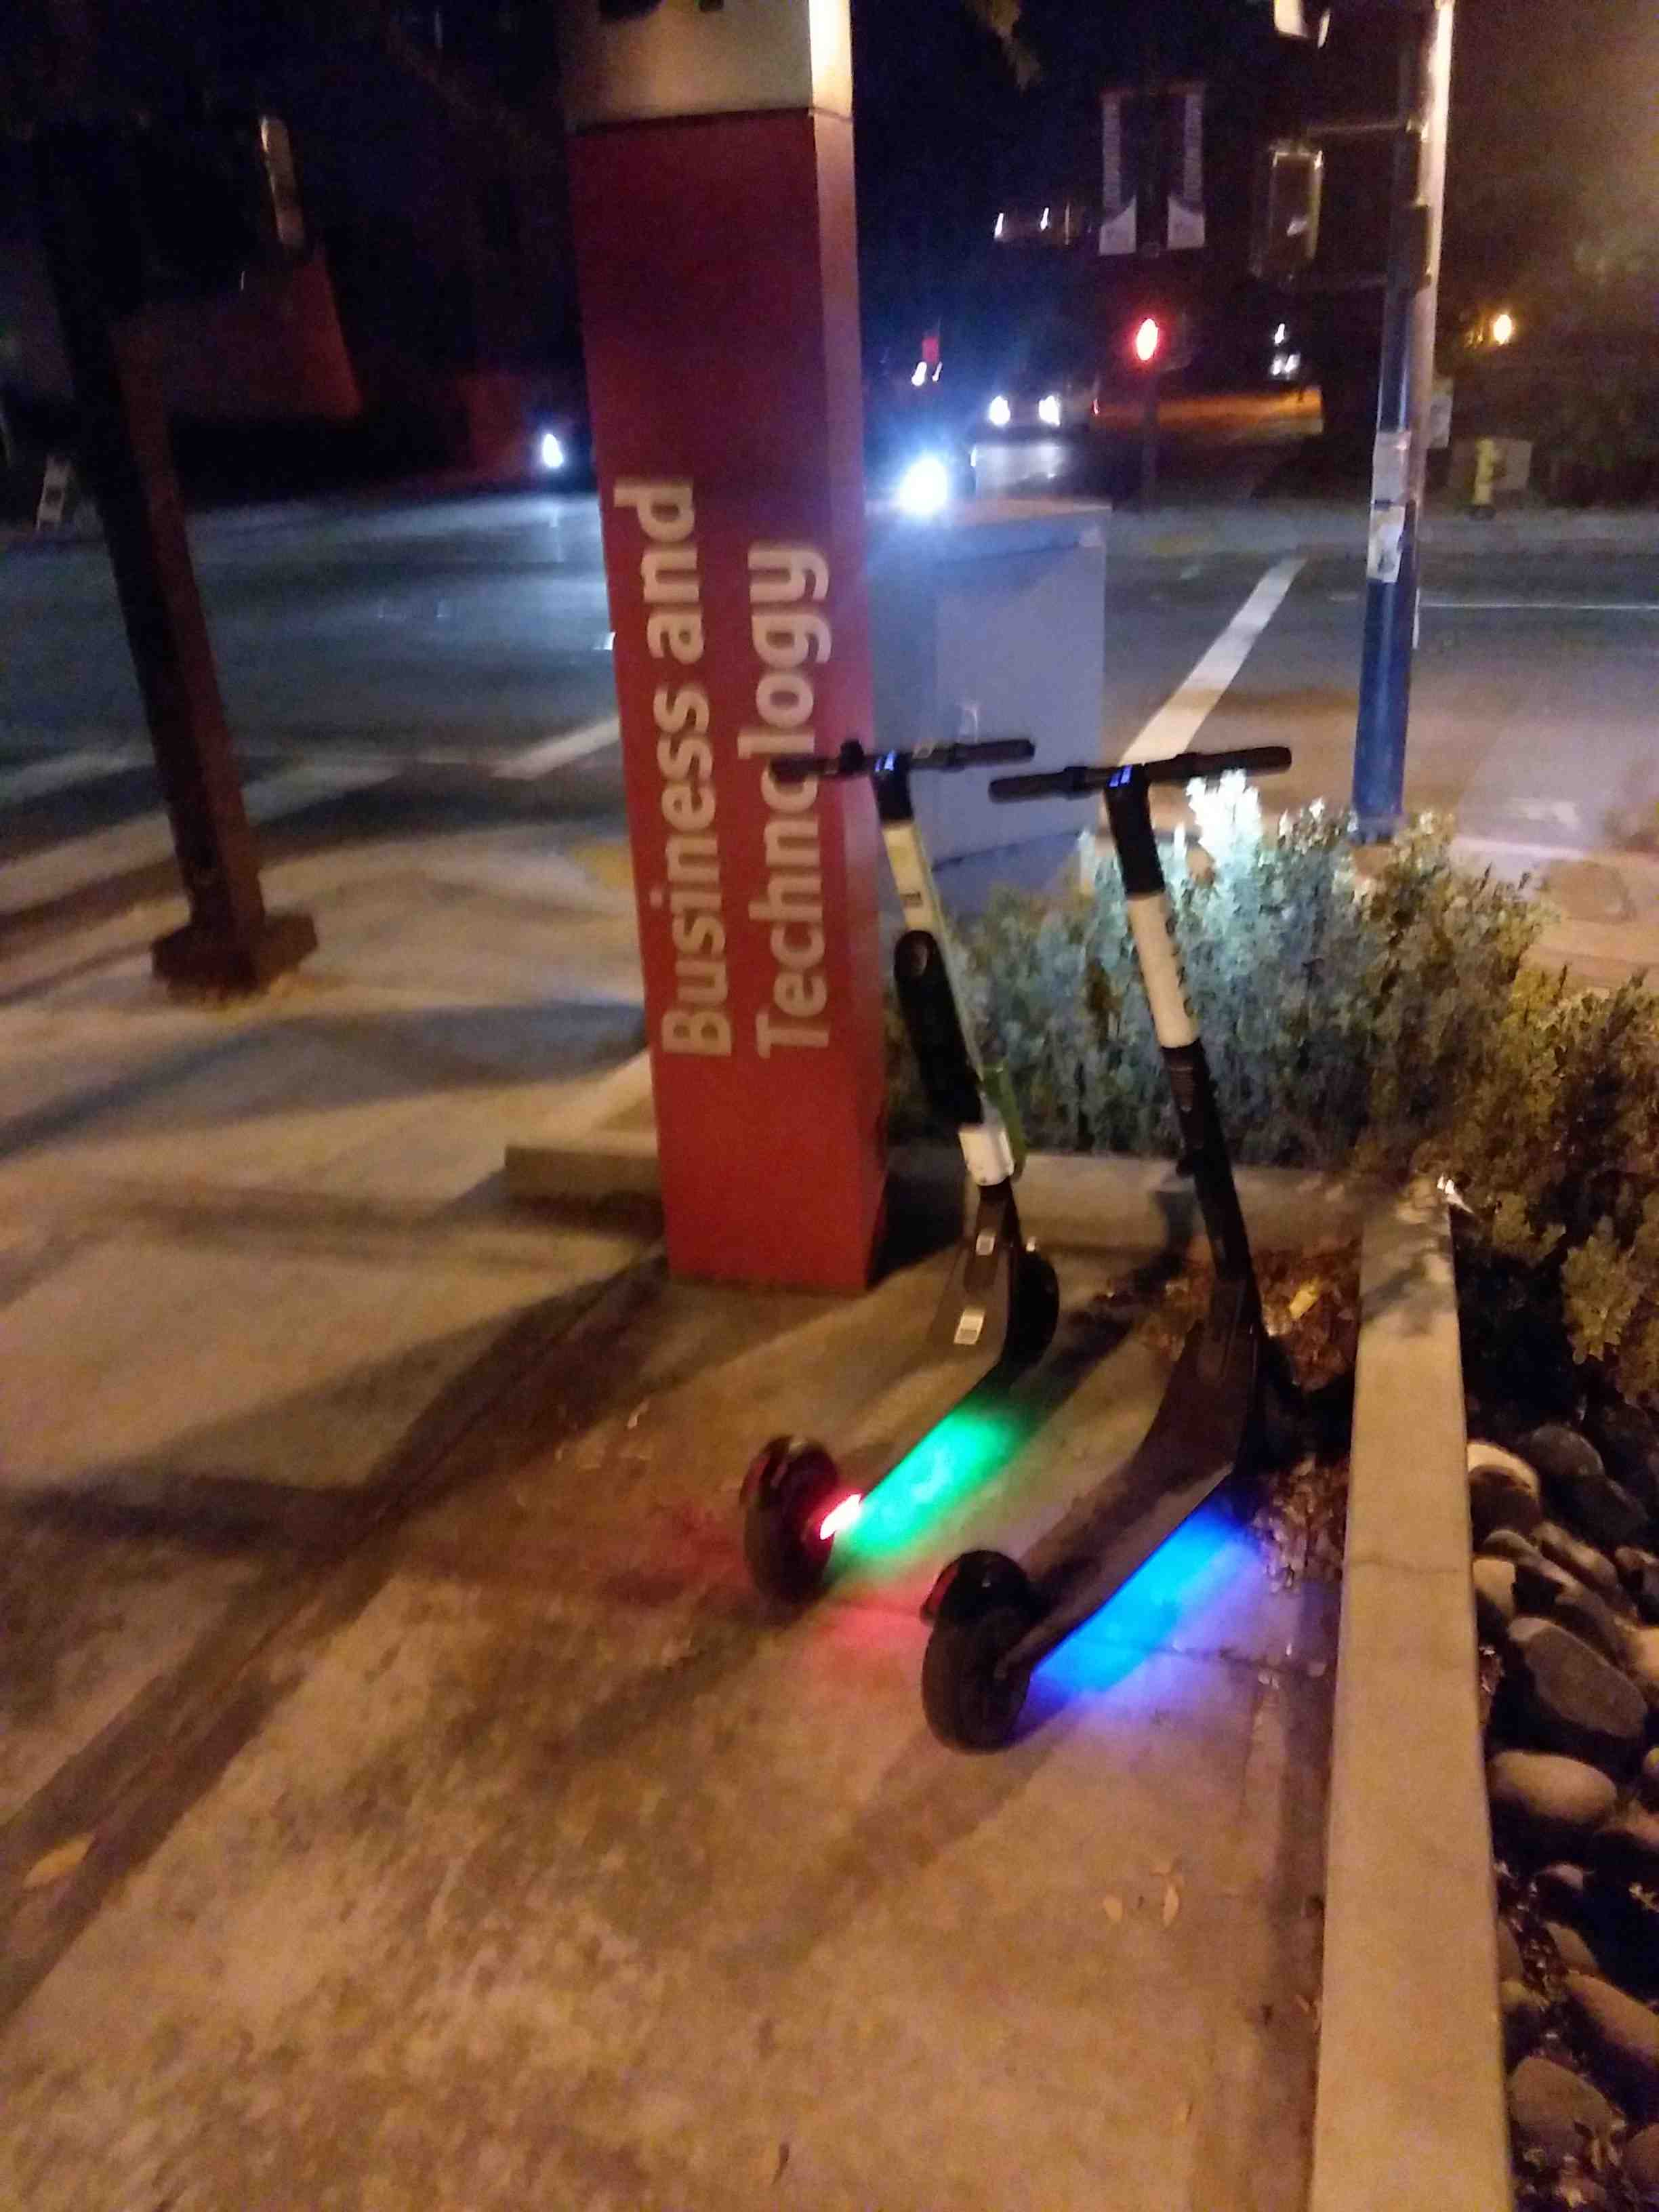scooter: (810, 704, 1324, 1750), (688, 667, 1164, 1677)
